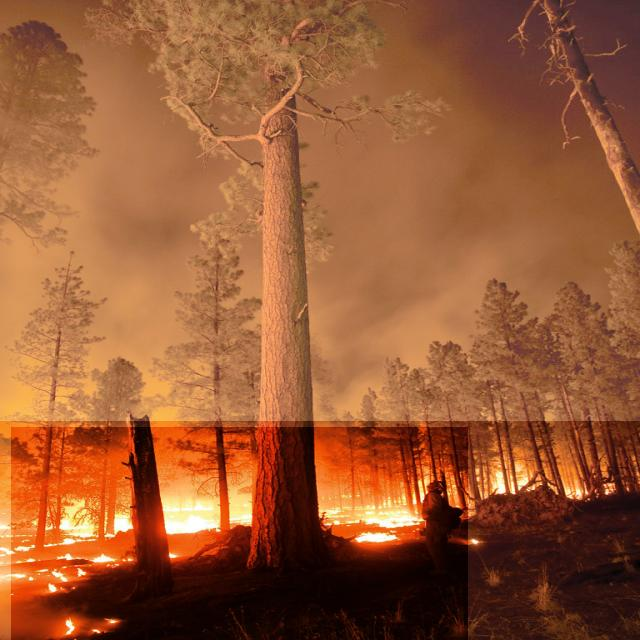Fire: (11, 427, 468, 640)
Smoke: (0, 0, 640, 421)
